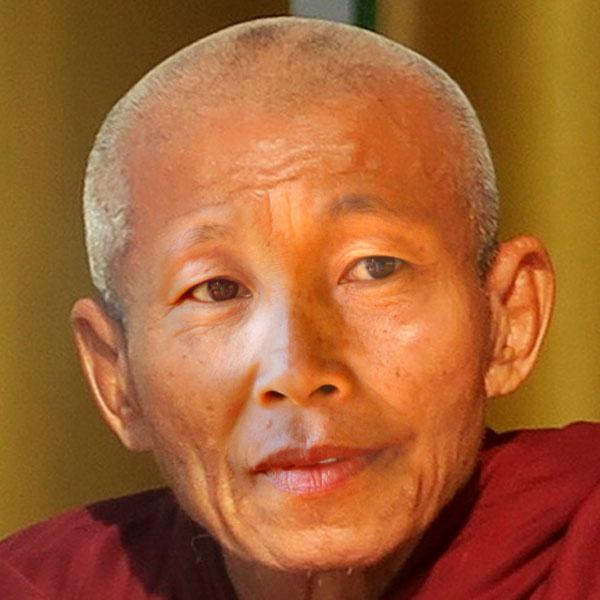Eyes: (172, 255, 259, 325), (324, 240, 424, 298)
